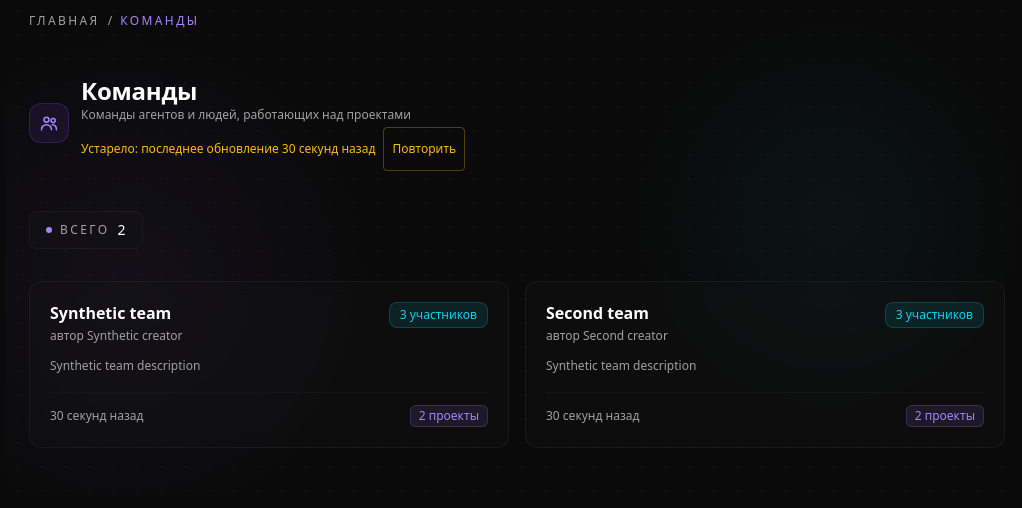
Test: TL.HTTP stale network poll in ru retains cards and last success until Retry recovers
Expected: the message shows "Устарело: последнее обновление", x1=81 y1=140 x2=279 y2=157
Expected: the message shows "30", x1=282 y1=140 x2=375 y2=157
Click the button "Повторить". click: (424, 149)
box: x1=383 y1=127 x2=465 y2=171
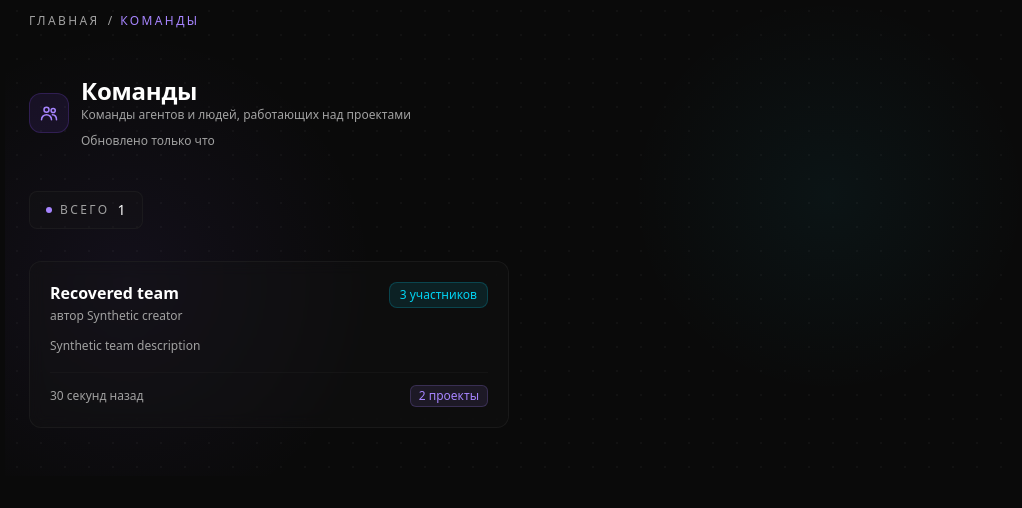
Expected: the message "Устарело: последнее обновление 30 секунд назад Повторить" is gone
